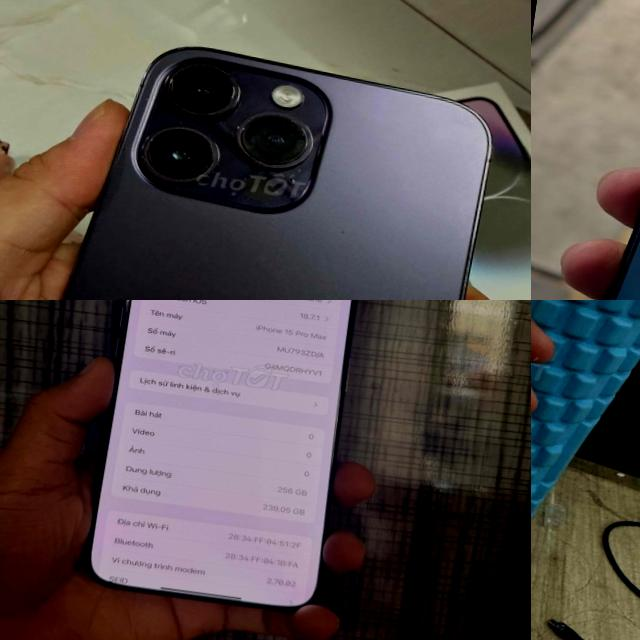gen_14: (0, 22, 506, 300)
gen_15: (54, 300, 389, 632)
